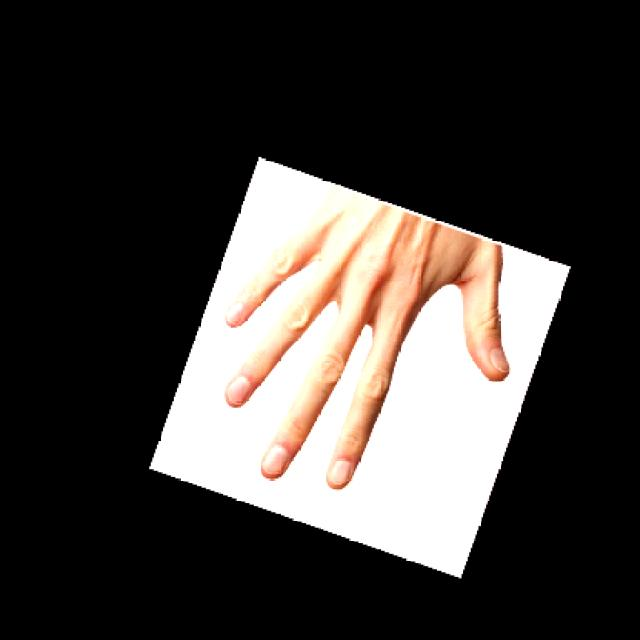Nail: (225, 375, 251, 407), (262, 446, 287, 474), (330, 460, 352, 484), (226, 302, 244, 326), (491, 349, 509, 372)
